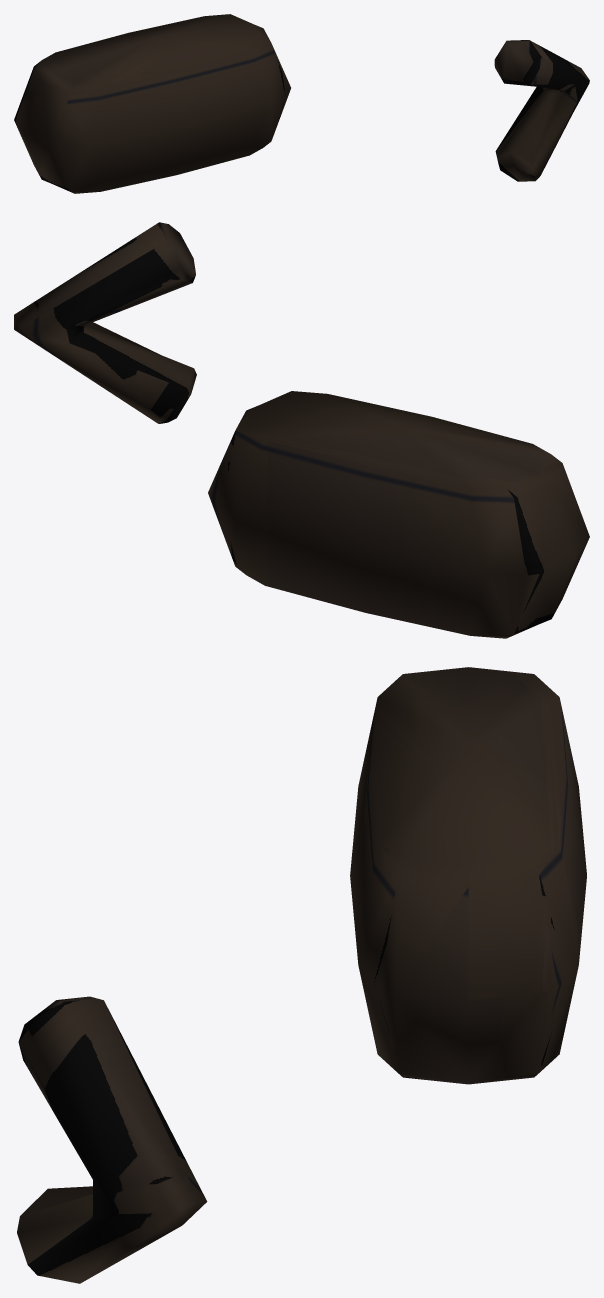
Rendered from Atalanta_Escudo_Cuero.fbx.
The picture shows the model from 3 angles, top to bottom: view 1: azimuth 30°, elevation 25°; view 2: azimuth 150°, elevation 25°; view 3: azimuth 270°, elevation 25°; orthographic projection. The views are drawn at different scales.
Visible parts, largest first — view 1: Atalanta_Escudo_Cuero; view 2: Atalanta_Escudo_Cuero; view 3: Atalanta_Escudo_Cuero.
Boxes of the visible parts, left/top/right/bottom form: Atalanta_Escudo_Cuero: left=14, top=14, right=589, bottom=193; Atalanta_Escudo_Cuero: left=14, top=222, right=589, bottom=638; Atalanta_Escudo_Cuero: left=17, top=667, right=586, bottom=1283.
Bounding box in the file's own units: 0.8389 × 0.2371 × 0.4296.
